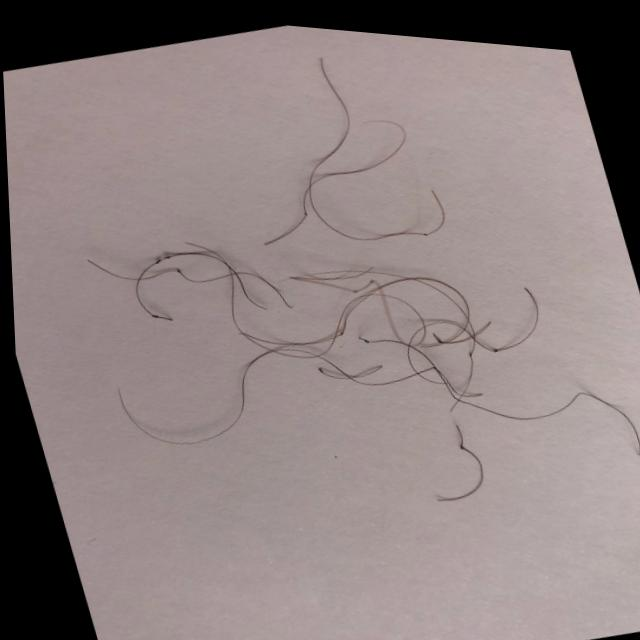hair: (254, 46, 449, 248), (102, 343, 263, 452), (470, 372, 640, 447), (426, 409, 487, 499)
scratch: (53, 231, 557, 409)
